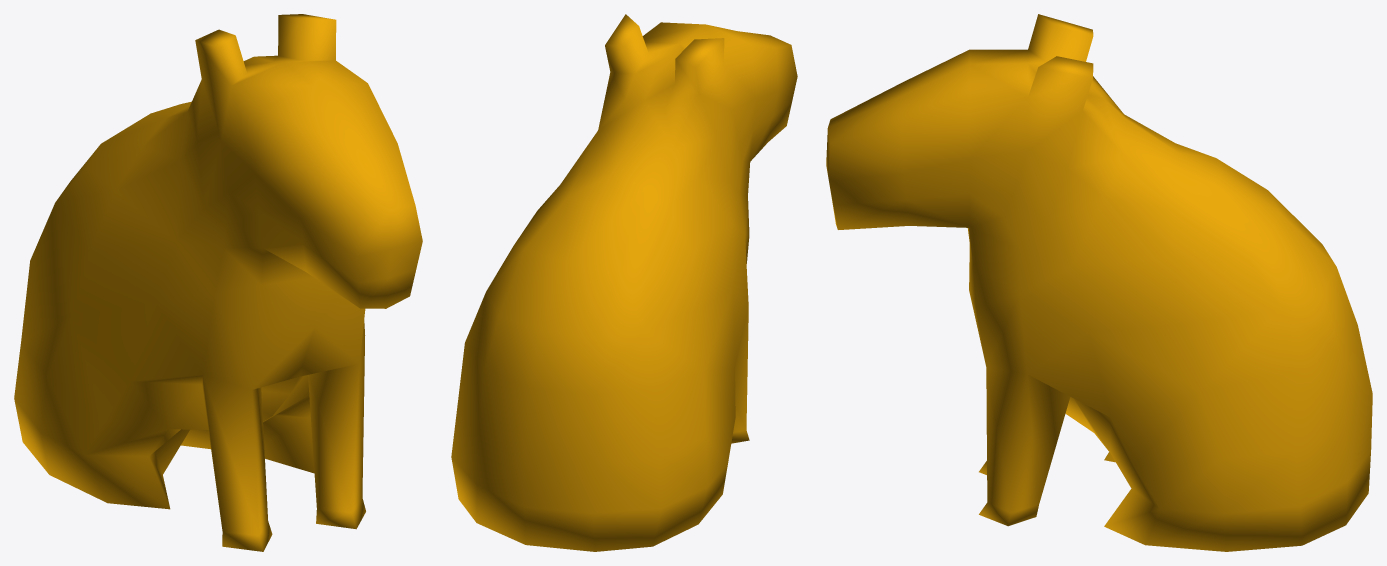
File: Capybara_Collectible.fbx
The picture shows the model from 3 angles, left to right: view 1: azimuth 30°, elevation 25°; view 2: azimuth 150°, elevation 25°; view 3: azimuth 270°, elevation 25°; orthographic projection. The views are drawn at different scales.
Parts seen in each view (by area): view 1: Capybara; view 2: Capybara; view 3: Capybara.
Part boxes in pixels (<box>): Capybara: <box>14,14,422,551</box>; Capybara: <box>451,14,797,551</box>; Capybara: <box>826,14,1372,551</box>.
Size of the model in its own units: 23.16 by 38.83 by 42.49.
